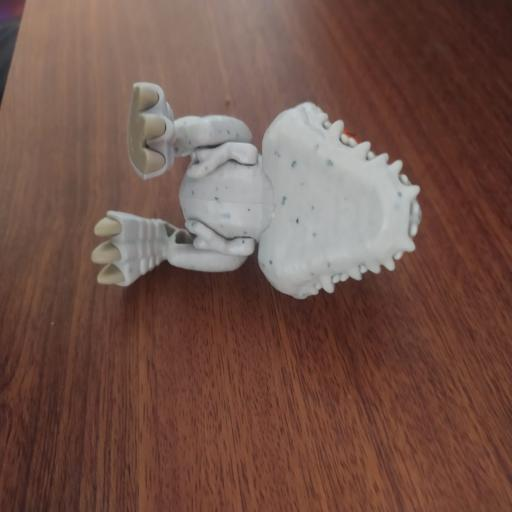Dinosaurio: (87, 70, 428, 321)
